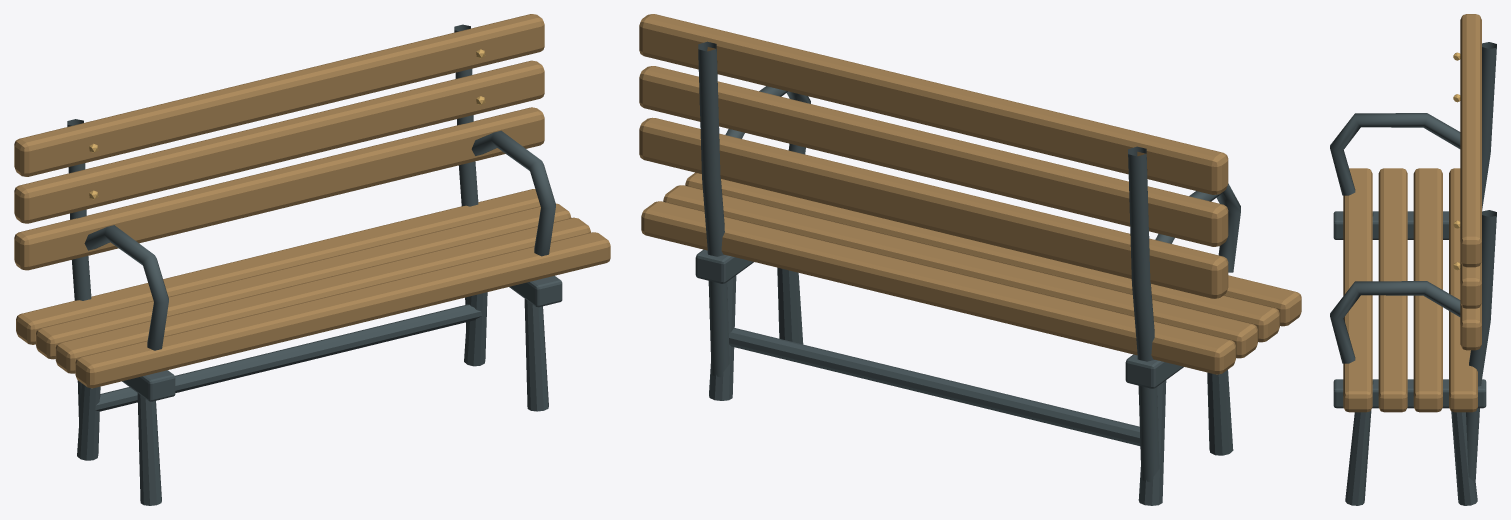
The model's file is bench.glb.
3 views of the same model, side by side, from view 1: azimuth 30°, elevation 25°; view 2: azimuth 150°, elevation 25°; view 3: azimuth 270°, elevation 25° (orthographic). The views are drawn at different scales.
Visible parts, largest first — view 1: bench_HVS_oak_light, bench_HVS_iron; view 2: bench_HVS_oak_light, bench_HVS_iron; view 3: bench_HVS_oak_light, bench_HVS_iron, bench_HVS_brass.
Part boxes in pixels (x1,y1,x2,y2): bench_HVS_oak_light: (14, 14, 610, 388); bench_HVS_iron: (67, 24, 562, 505); bench_HVS_oak_light: (639, 14, 1301, 374); bench_HVS_iron: (695, 41, 1240, 505); bench_HVS_oak_light: (1343, 14, 1481, 412); bench_HVS_iron: (1330, 42, 1496, 505); bench_HVS_brass: (1453, 52, 1460, 270).
Size of the model in its own units: 1.76 by 1.06 by 0.5455.
